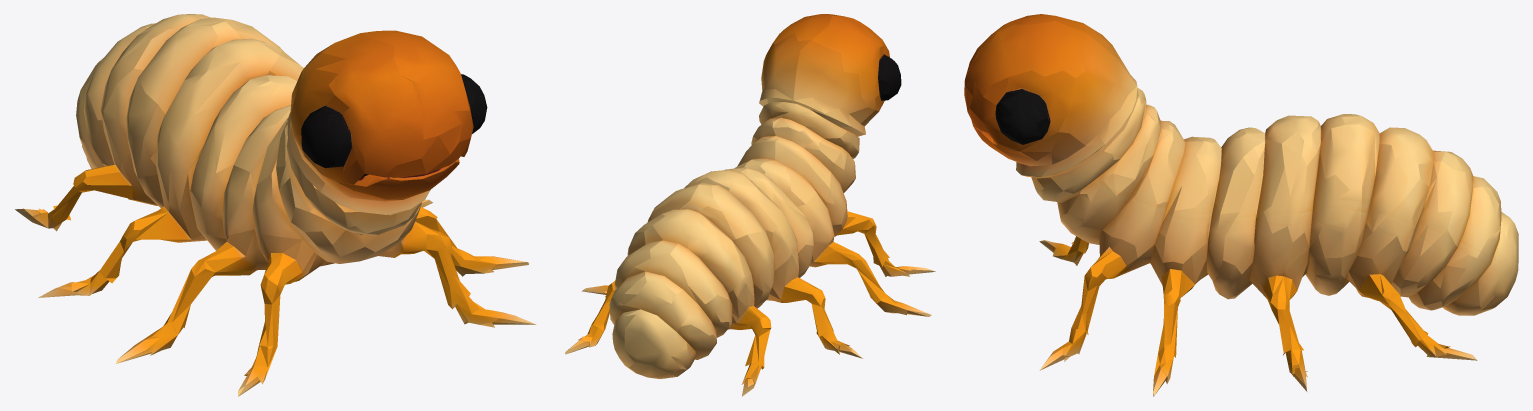
File: grub.glb
3 renders of one model, left to right at view 1: azimuth 30°, elevation 25°; view 2: azimuth 150°, elevation 25°; view 3: azimuth 270°, elevation 25°, orthographic. The views are drawn at different scales.
Size of the model in its own units: 1.45 by 1.08 by 1.9.
Materials: 1 (1 with a texture image).
